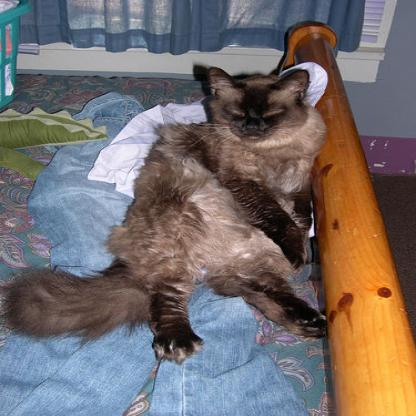cat: (2, 62, 324, 363)
